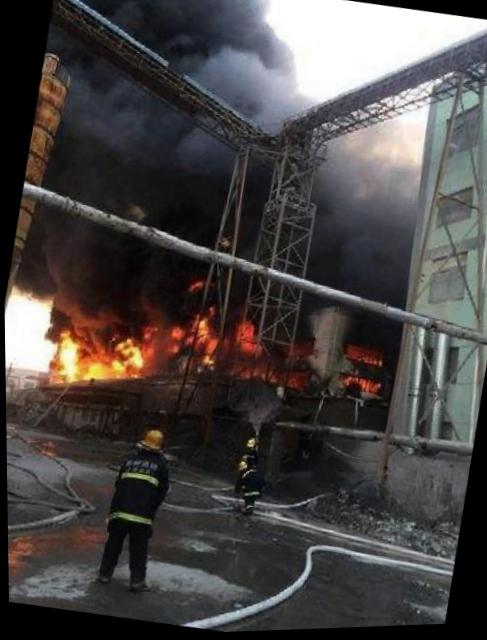fire: (48, 323, 87, 382), (81, 347, 130, 385), (108, 333, 146, 371), (225, 319, 254, 351), (190, 317, 215, 353), (335, 375, 376, 396), (343, 345, 379, 367), (167, 323, 182, 342)
